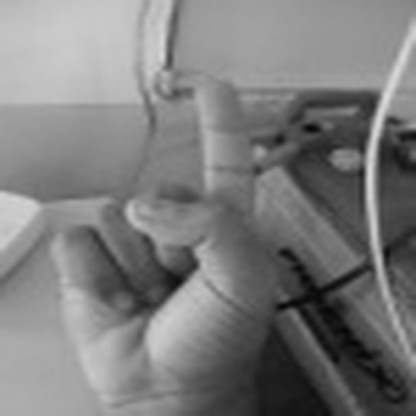d: (46, 68, 272, 412)
